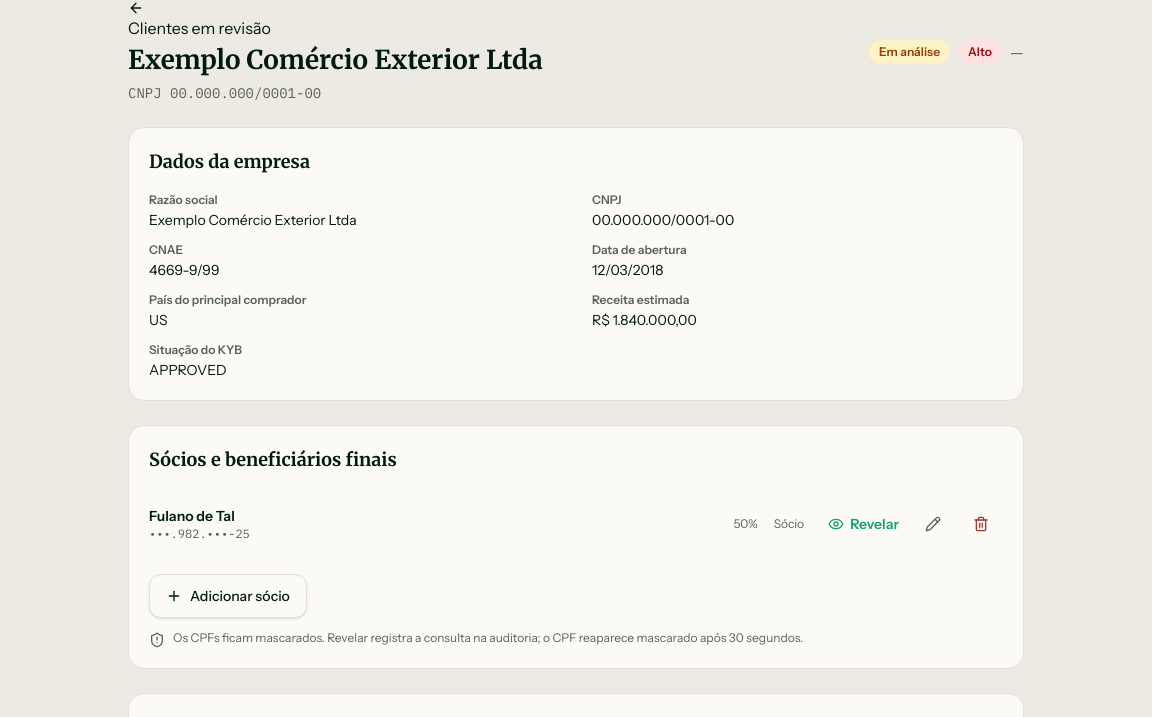
Test case: ClientReview — owners CRUD › validates the CPF before creating
Check: the heading "Sócios e beneficiários finais" is shown, box 149,448 -> 397,471
Click the button "Adicionar sócio".
click(228, 596)  # box 149,574 -> 307,618
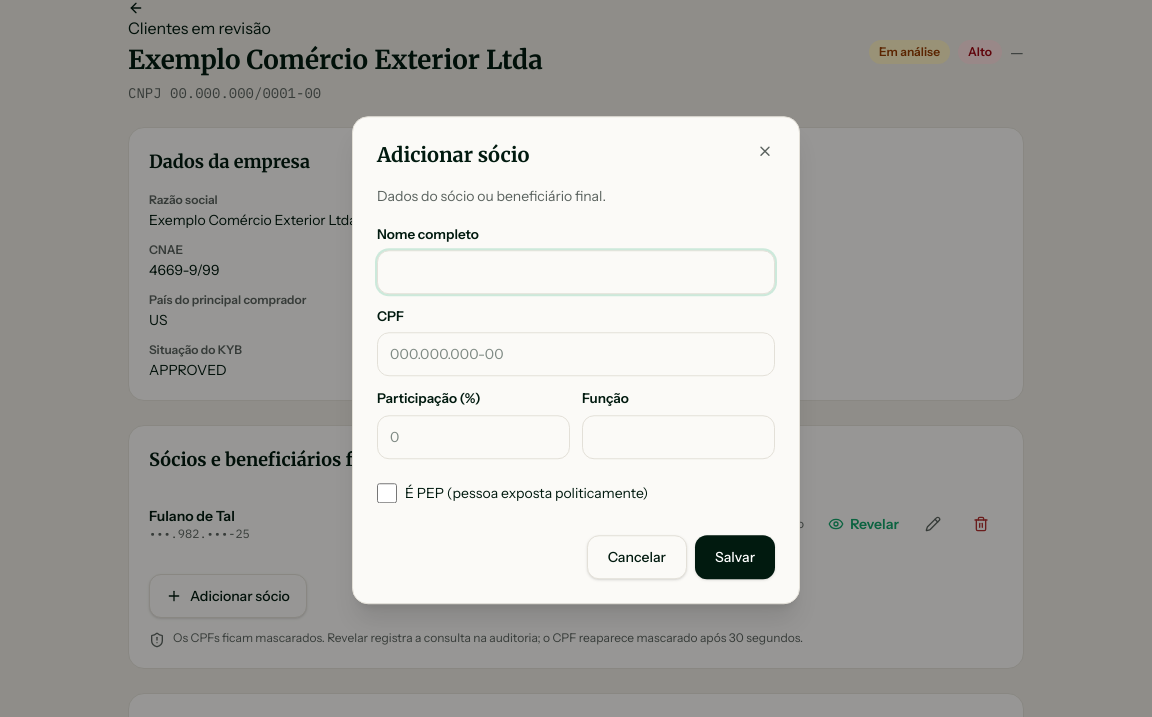
Type "Novo Sócio" into the field below "Nome completo".
click(576, 272); type("Novo Sócio")  # box 377,250 -> 775,294
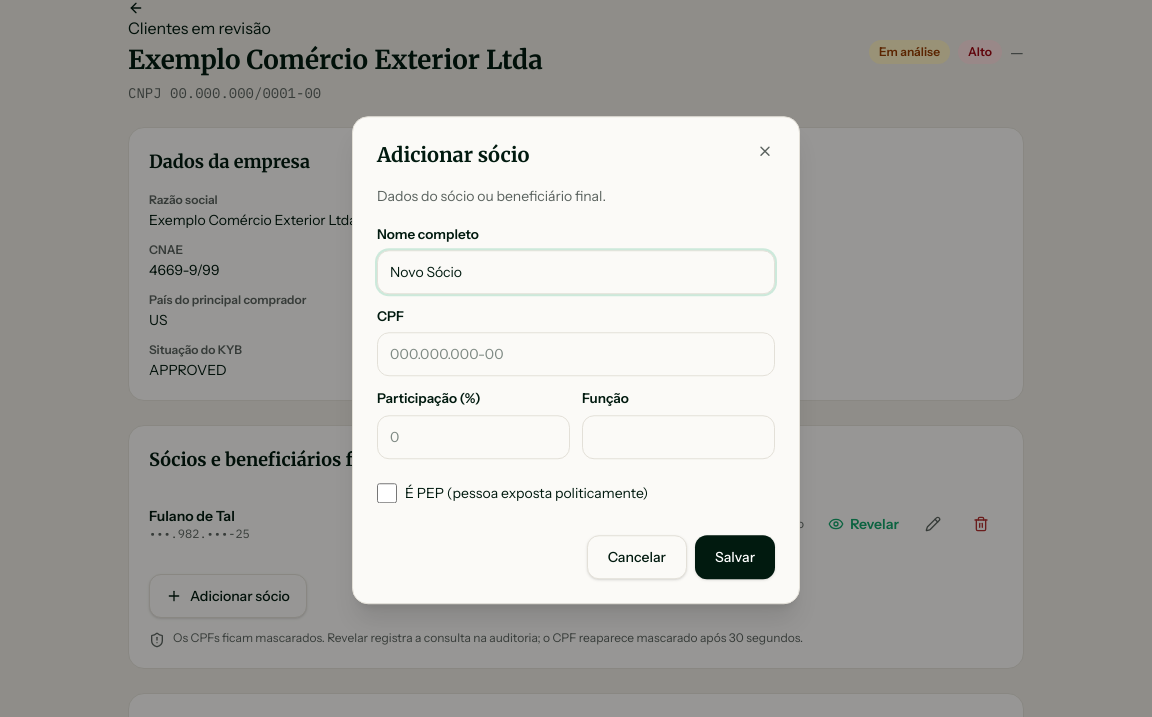
Type "12345678901" into the field with placeholder "000.000.000-00".
click(576, 354); type("12345678901")  # box 377,332 -> 775,376
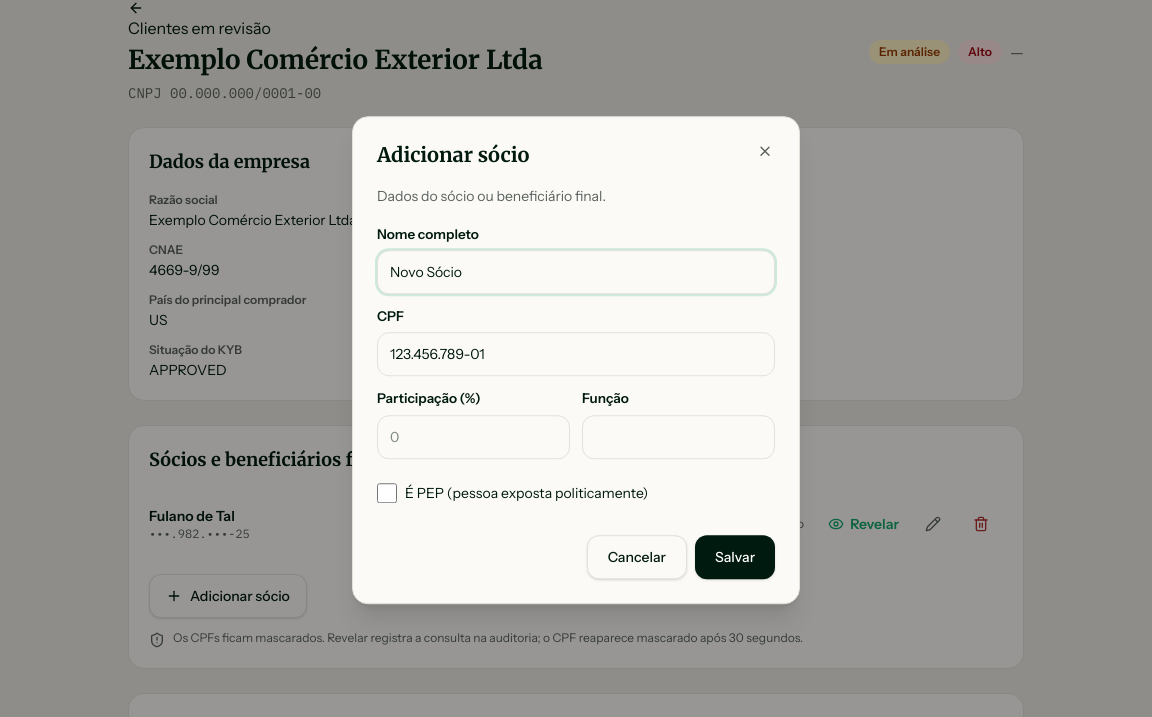
Click the button "Salvar".
click(735, 557)  # box 695,535 -> 775,579
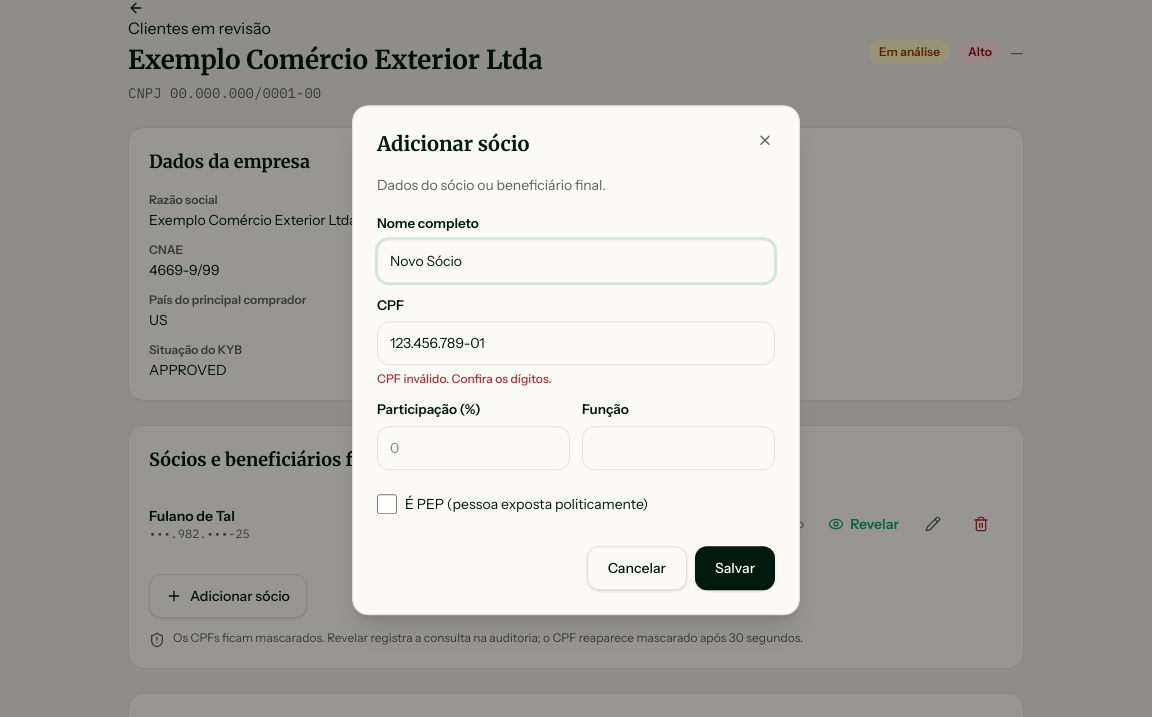
Check: the text "CPF inválido. Confira os dígitos." is shown, box 377,372 -> 552,386
